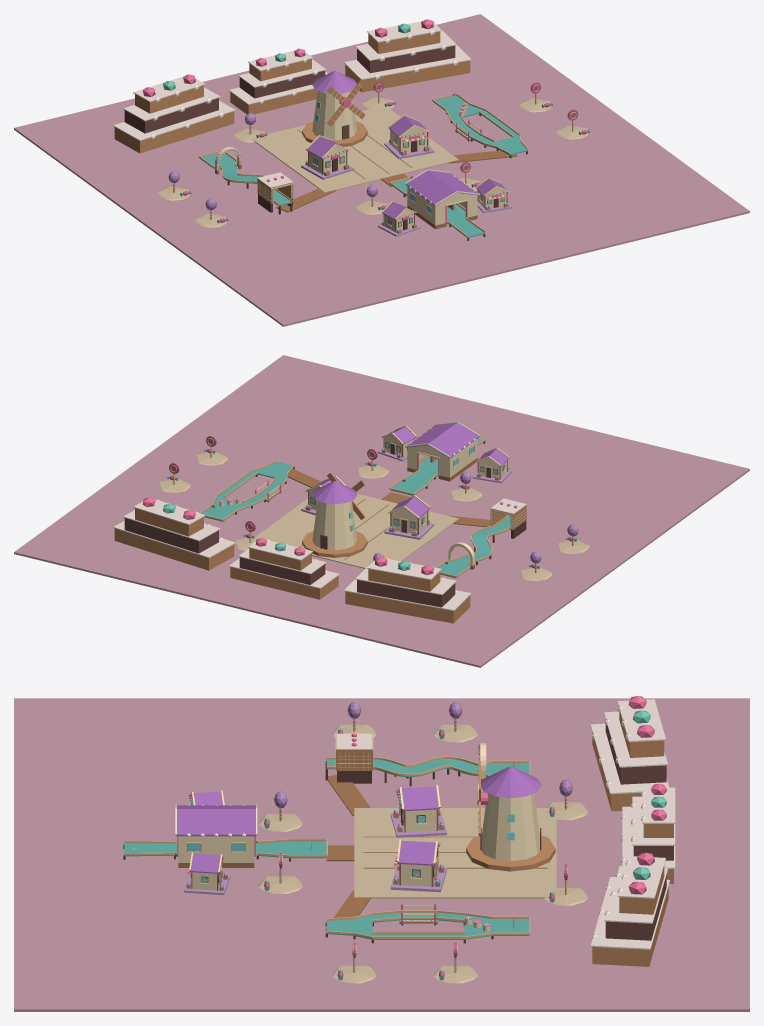
The model's file is district.glb.
The picture shows the model from 3 angles, top to bottom: view 1: azimuth 30°, elevation 25°; view 2: azimuth 150°, elevation 25°; view 3: azimuth 270°, elevation 25°; orthographic projection. The views are drawn at different scales.
Parts seen in each view (by area): view 1: Candyland_District_Dressing, DistrictScenery_5__Candyland_CandyCliffBackdrop_Standard, DistrictScenery_3__Candyland_CandyCliffBackdrop_Standard, DistrictScenery_4__Candyland_CandyCliffBackdrop_Standard, DistrictScenery_0__Candyland_SugarWindmillLandmark_Standard, SweetShopShortcut_1__Candyland_SweetShopRoof_Standard, CookieCrossroads__Candyland_CookieCrossroads_Surface, DistrictScenery_1__Candyland_GingerbreadHouse_Standard, DistrictScenery_2__Candyland_SweetShop_Standard, SweetShopShortcut_0__Candyland_SweetShopShell_Standard, DistrictScenery_6__Candyland_GingerbreadHouse_Standard, DistrictScenery_7__Candyland_SweetShop_Standard (+4 smaller); view 2: Candyland_District_Dressing, DistrictScenery_3__Candyland_CandyCliffBackdrop_Standard, DistrictScenery_5__Candyland_CandyCliffBackdrop_Standard, DistrictScenery_4__Candyland_CandyCliffBackdrop_Standard, DistrictScenery_0__Candyland_SugarWindmillLandmark_Standard, SweetShopShortcut_1__Candyland_SweetShopRoof_Standard, DistrictScenery_1__Candyland_GingerbreadHouse_Standard, CookieCrossroads__Candyland_CookieCrossroads_Surface, SweetShopShortcut_0__Candyland_SweetShopShell_Standard, FrostingFold__Candyland_FrostingFold_Surface, DistrictScenery_6__Candyland_GingerbreadHouse_Standard, SweetShopShortcut__Candyland_SweetShopShortcut_FloorCollisio (+3 smaller); view 3: Candyland_District_Dressing, DistrictScenery_5__Candyland_CandyCliffBackdrop_Standard, DistrictScenery_0__Candyland_SugarWindmillLandmark_Standard, DistrictScenery_3__Candyland_CandyCliffBackdrop_Standard, DistrictScenery_4__Candyland_CandyCliffBackdrop_Standard, CookieCrossroads__Candyland_CookieCrossroads_Surface, SweetShopShortcut_1__Candyland_SweetShopRoof_Standard, DistrictScenery_2__Candyland_SweetShop_Standard, DistrictScenery_1__Candyland_GingerbreadHouse_Standard, SweetShopShortcut_0__Candyland_SweetShopShell_Standard, CookieCrossroads__Candyland_CookieCrossroads_Rails, SweetShopShortcut__Candyland_SweetShopShortcut_FloorCollisio (+5 smaller).
Boxes of the visible parts, x1,y1,x2,y2 form: Candyland_District_Dressing: (14, 14, 749, 326); DistrictScenery_5__Candyland_CandyCliffBackdrop_Standard: (344, 19, 471, 92); DistrictScenery_3__Candyland_CandyCliffBackdrop_Standard: (113, 74, 235, 153); DistrictScenery_4__Candyland_CandyCliffBackdrop_Standard: (229, 48, 327, 114); DistrictScenery_0__Candyland_SugarWindmillLandmark_Standard: (302, 71, 367, 146); SweetShopShortcut_1__Candyland_SweetShopRoof_Standard: (405, 169, 479, 205); CookieCrossroads__Candyland_CookieCrossroads_Surface: (433, 95, 527, 155); DistrictScenery_1__Candyland_GingerbreadHouse_Standard: (301, 135, 354, 179); DistrictScenery_2__Candyland_SweetShop_Standard: (384, 114, 434, 158); SweetShopShortcut_0__Candyland_SweetShopShell_Standard: (407, 186, 477, 225); DistrictScenery_6__Candyland_GingerbreadHouse_Standard: (378, 201, 420, 236); DistrictScenery_7__Candyland_SweetShop_Standard: (476, 177, 512, 212); Candyland_District_Dressing: (14, 355, 749, 667); DistrictScenery_3__Candyland_CandyCliffBackdrop_Standard: (344, 557, 471, 623); DistrictScenery_5__Candyland_CandyCliffBackdrop_Standard: (113, 497, 235, 570); DistrictScenery_4__Candyland_CandyCliffBackdrop_Standard: (229, 538, 339, 599); DistrictScenery_0__Candyland_SugarWindmillLandmark_Standard: (302, 472, 367, 557); SweetShopShortcut_1__Candyland_SweetShopRoof_Standard: (405, 422, 479, 458); DistrictScenery_1__Candyland_GingerbreadHouse_Standard: (384, 495, 434, 539); CookieCrossroads__Candyland_CookieCrossroads_Surface: (201, 461, 292, 521); SweetShopShortcut_0__Candyland_SweetShopShell_Standard: (407, 438, 477, 477); FrostingFold__Candyland_FrostingFold_Surface: (438, 515, 510, 578); DistrictScenery_6__Candyland_GingerbreadHouse_Standard: (472, 447, 512, 483); SweetShopShortcut__Candyland_SweetShopShortcut_FloorCollisio: (391, 438, 484, 495); Candyland_District_Dressing: (14, 698, 749, 1011); DistrictScenery_5__Candyland_CandyCliffBackdrop_Standard: (590, 852, 670, 966); DistrictScenery_0__Candyland_SugarWindmillLandmark_Standard: (466, 761, 555, 871); DistrictScenery_3__Candyland_CandyCliffBackdrop_Standard: (590, 696, 669, 811); DistrictScenery_4__Candyland_CandyCliffBackdrop_Standard: (621, 784, 675, 883); CookieCrossroads__Candyland_CookieCrossroads_Surface: (326, 912, 529, 939); SweetShopShortcut_1__Candyland_SweetShopRoof_Standard: (175, 804, 257, 837); DistrictScenery_2__Candyland_SweetShop_Standard: (390, 839, 446, 892); DistrictScenery_1__Candyland_GingerbreadHouse_Standard: (390, 785, 446, 837); SweetShopShortcut_0__Candyland_SweetShopShell_Standard: (177, 836, 255, 862); CookieCrossroads__Candyland_CookieCrossroads_Rails: (326, 910, 530, 938); SweetShopShortcut__Candyland_SweetShopShortcut_FloorCollisio: (124, 841, 326, 858).
Size of what is drawn, in the model's own units: 80 by 10.71 by 80.
